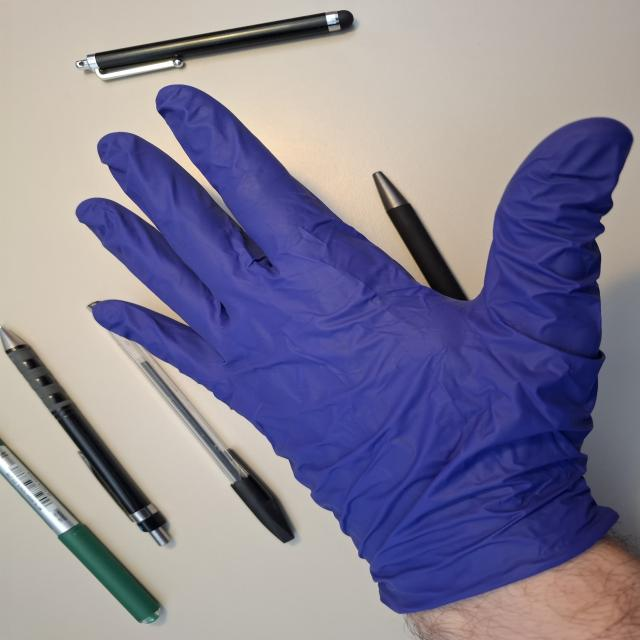glove_on: (71, 81, 638, 608)
